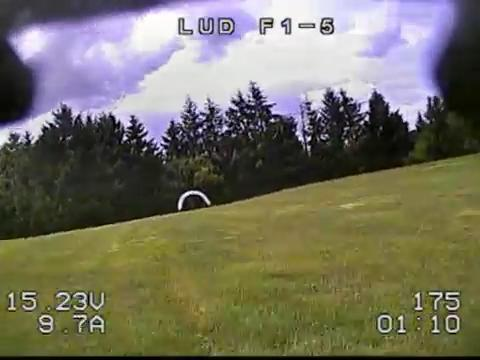gate: (176, 189, 211, 212)
